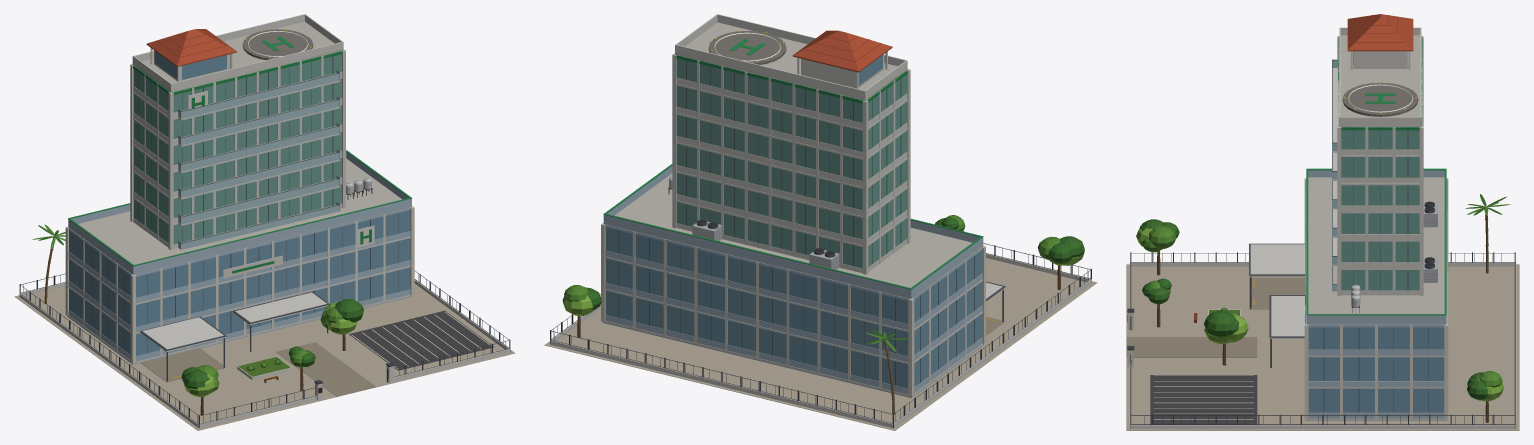
File: hospital.glb
The picture shows the model from 3 angles, left to right: view 1: azimuth 30°, elevation 25°; view 2: azimuth 150°, elevation 25°; view 3: azimuth 270°, elevation 25°; orthographic projection. The views are drawn at different scales.
Visible parts, largest first — view 1: body; view 2: body; view 3: body.
Part boxes in pixels (x1,y1,x2,y2): body: (14,14,515,430); body: (544,14,1097,430); body: (1126,14,1519,430).
Size of the model in its own units: 47.9 by 41.37 by 47.9.
